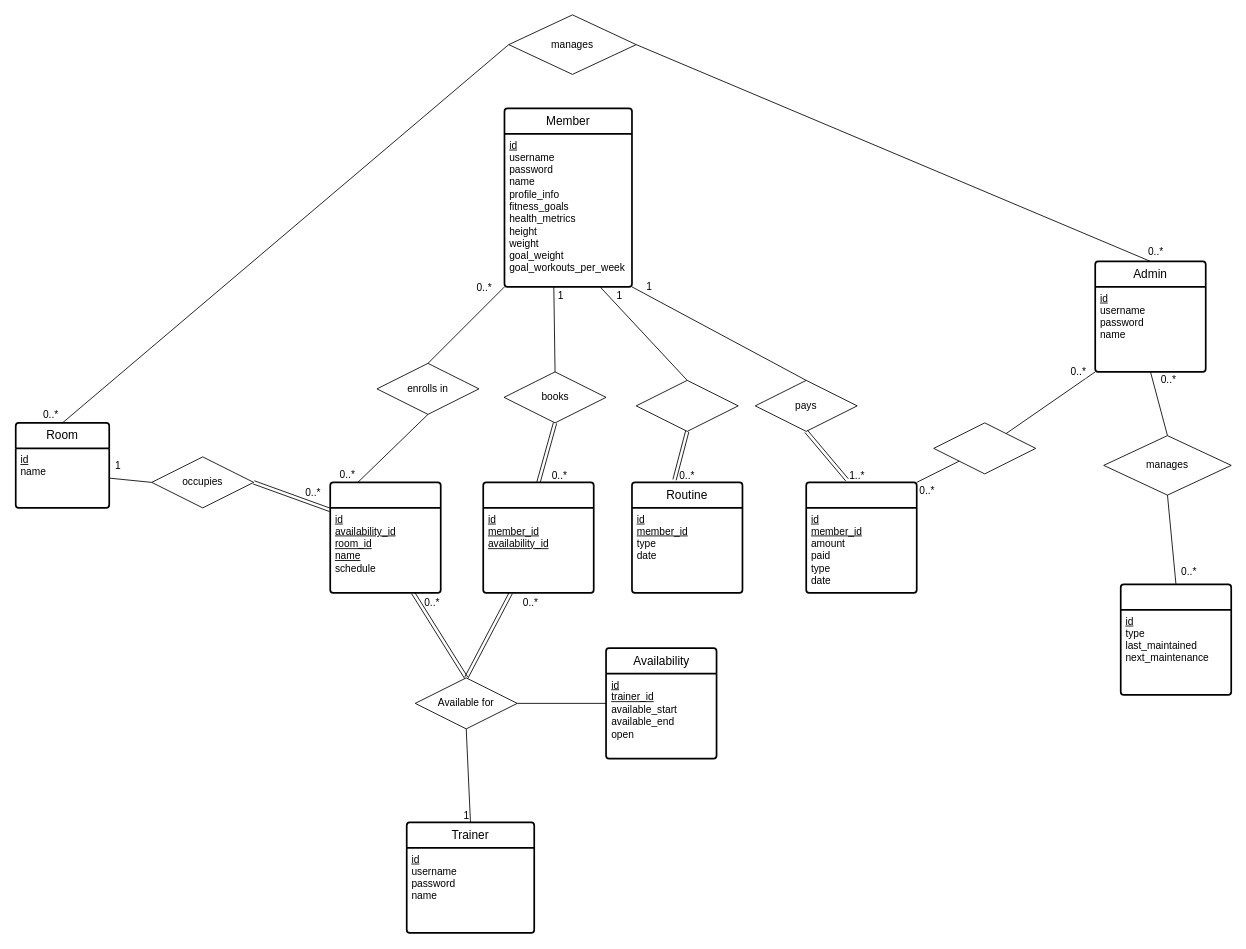
The diagram is 1246 pixels wide and 949 high, and some of its shapes have lost their labels. Here are the shapes that lost their labels. From the top down, the box of each, then its label:
(635, 380, 738, 431): has
(933, 422, 1036, 474): proceses
(329, 481, 441, 593): Class
(482, 481, 594, 593): Sessions
(805, 481, 917, 593): Bill
(1119, 583, 1232, 695): Equipment
